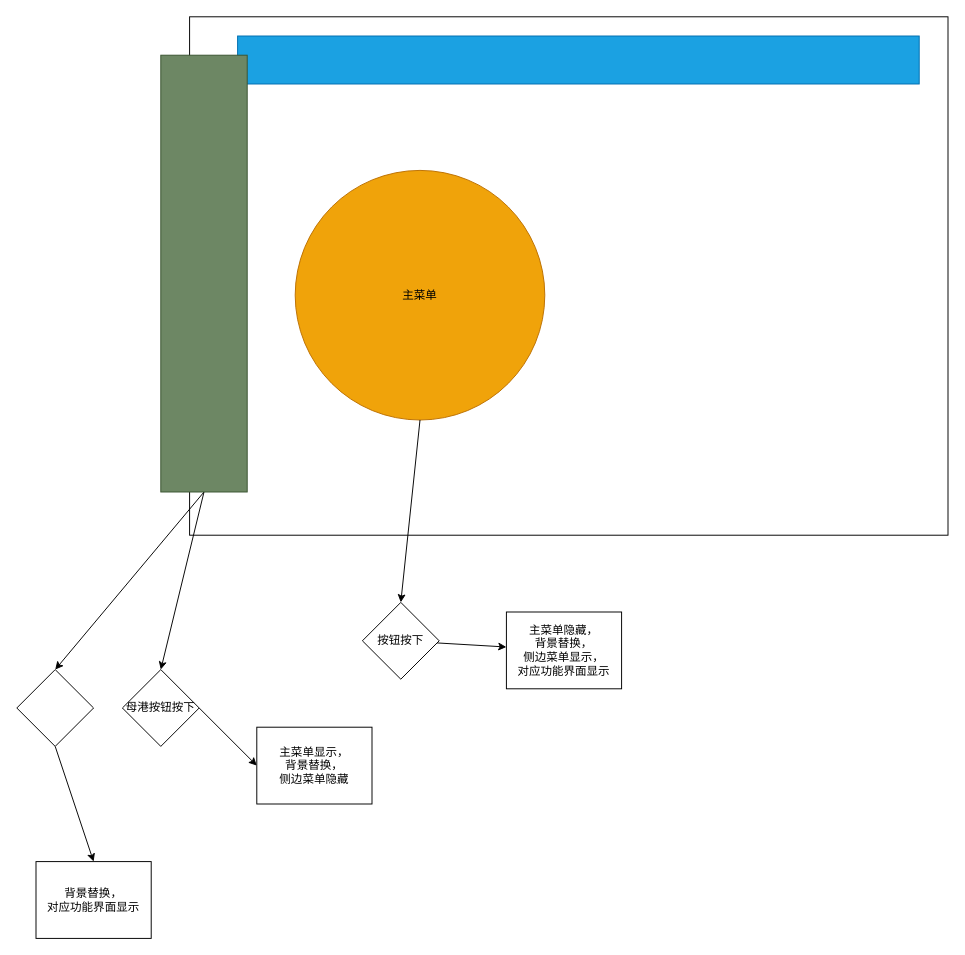
This 965x955 diagram has some shape labels left out. Each missing label, with the centre of its shape:
"侧边菜单" goes at (203,273).
"其它按钮按下" goes at (55,707).
"顶部菜单" goes at (578,59).
